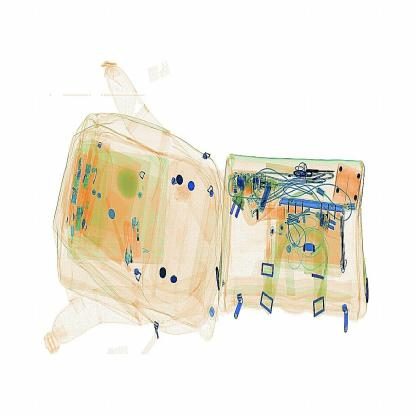knife: (338, 215, 346, 276)
